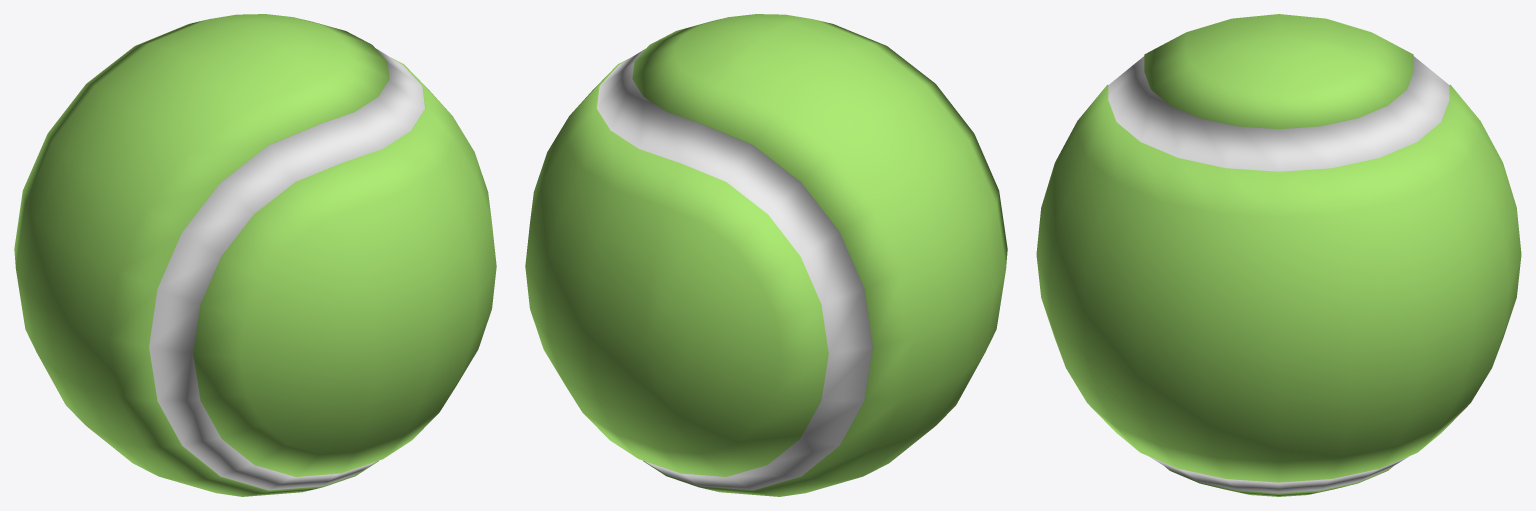
The model's file is tennisball.fbx.
3 views of the same model, side by side, from view 1: azimuth 30°, elevation 25°; view 2: azimuth 150°, elevation 25°; view 3: azimuth 270°, elevation 25° (orthographic).
Parts seen in each view (by area): view 1: tennisball; view 2: tennisball; view 3: tennisball.
Boxes of the visible parts, x1,y1,x2,y2 form: tennisball: [14, 14, 496, 496]; tennisball: [525, 14, 1007, 496]; tennisball: [1036, 14, 1521, 496].
Bounding box in the file's own units: 20.76 × 20.76 × 20.76.
